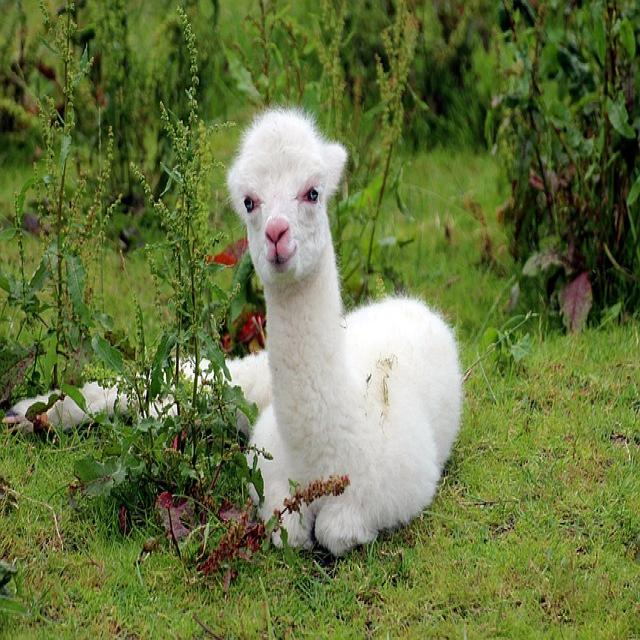Herbivorous: (224, 108, 465, 567)
